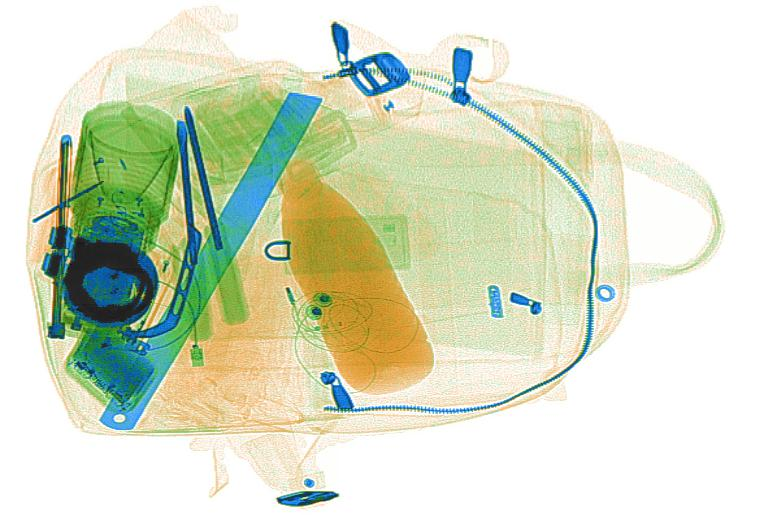battery: (71, 212, 146, 332)
